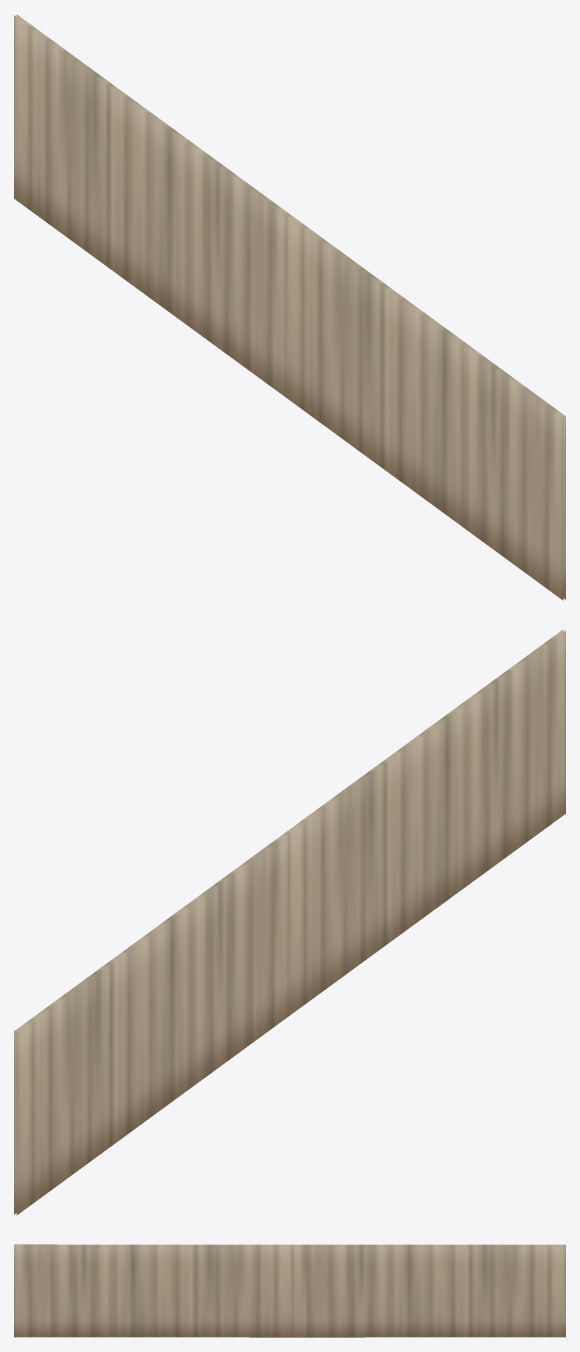
Rendered from woodenfencediag.glb.
3 views of the same model, one above another, from view 1: azimuth 30°, elevation 25°; view 2: azimuth 150°, elevation 25°; view 3: azimuth 270°, elevation 25° (orthographic). The views are drawn at different scales.
Visible parts, largest first — view 1: woodenfencediag; view 2: woodenfencediag; view 3: woodenfencediag.
Part boxes in pixels (x1,y1,x2,y2): woodenfencediag: (14, 14, 565, 600); woodenfencediag: (14, 629, 565, 1215); woodenfencediag: (14, 1244, 565, 1337).
Size of the model in its own units: 0.0381 by 2.25 by 12.18.
1 material, 1 textured.
